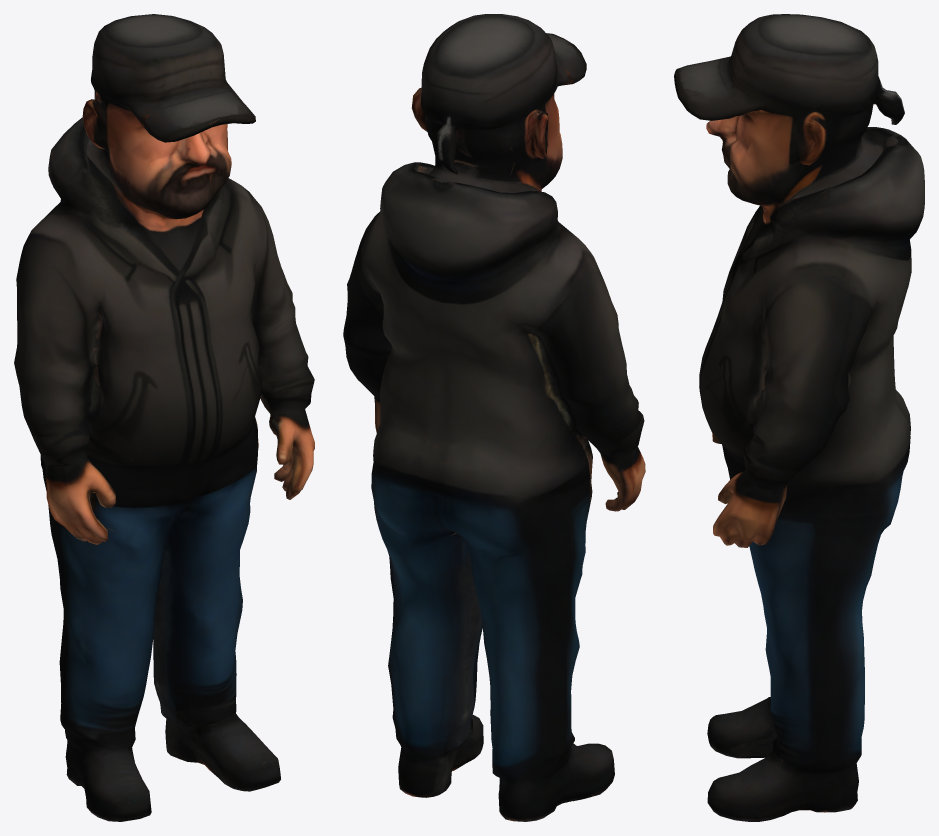
Rendered from be4580bc-5c9c-412f-a1a1-f4cf5cbadc9a.glb.
The picture shows the model from 3 angles, left to right: view 1: azimuth 30°, elevation 25°; view 2: azimuth 150°, elevation 25°; view 3: azimuth 270°, elevation 25°; orthographic projection.
Bounding box in the file's own units: 0.7675 × 2.01 × 0.6053.
Materials: 1 (1 with a texture image).
